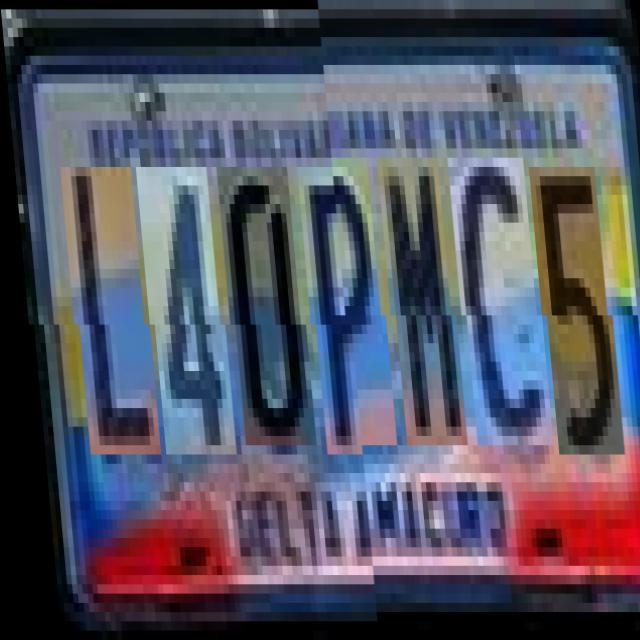0: (218, 167, 308, 446)
4: (138, 166, 228, 454)
5: (532, 176, 618, 464)
C: (450, 166, 546, 454)
L: (61, 166, 152, 454)
M: (379, 166, 460, 454)
P: (298, 166, 389, 454)
